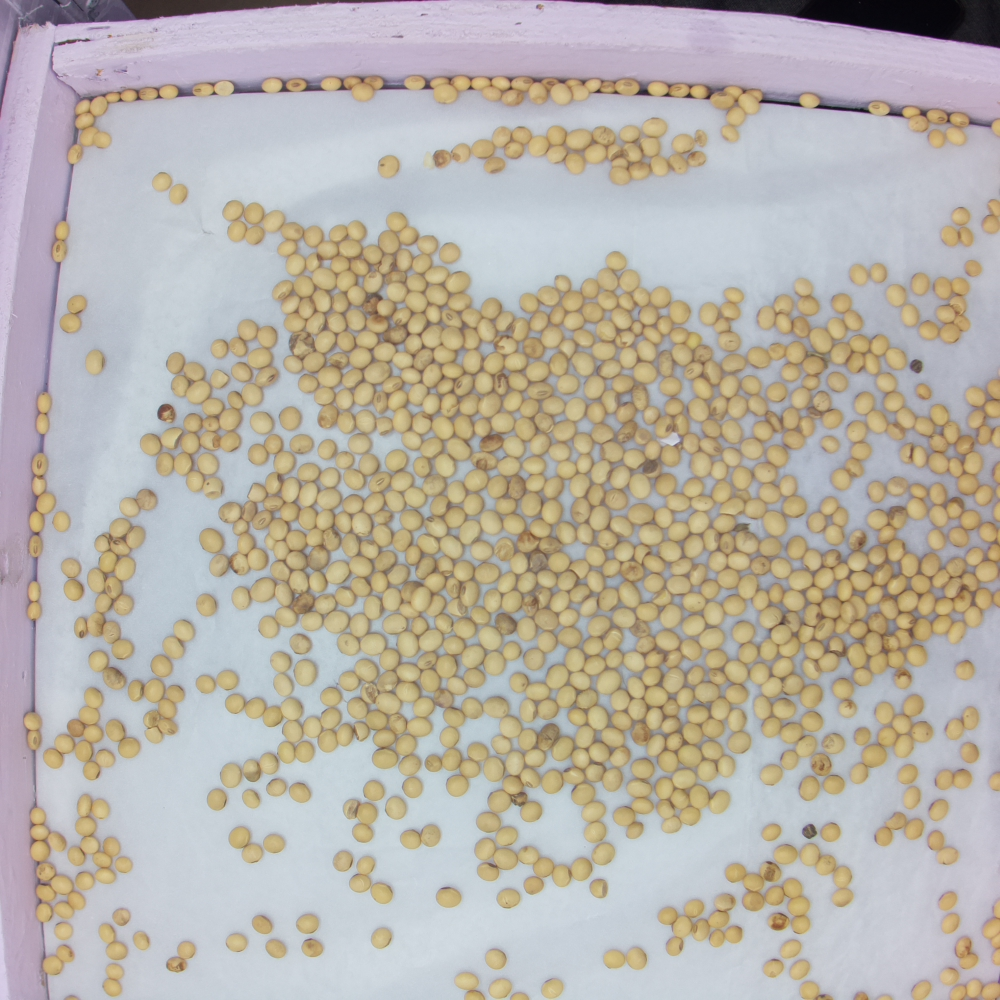soya: (219, 763, 242, 792), (361, 632, 386, 658), (772, 843, 799, 867), (625, 503, 652, 526), (439, 535, 464, 559), (227, 825, 251, 850), (486, 790, 511, 814), (551, 736, 575, 761), (800, 684, 824, 709), (220, 408, 243, 434), (661, 669, 684, 695), (765, 624, 791, 647), (371, 748, 398, 770), (396, 631, 417, 659), (718, 353, 746, 374), (596, 670, 620, 694), (764, 512, 788, 536), (800, 711, 824, 735), (249, 412, 274, 435), (325, 561, 350, 584), (570, 352, 593, 377), (464, 469, 489, 492), (808, 328, 831, 353), (782, 673, 805, 698), (435, 453, 457, 479), (323, 611, 349, 633), (566, 129, 592, 151), (638, 524, 664, 546), (436, 887, 463, 908), (460, 520, 481, 547), (847, 642, 868, 669), (787, 570, 815, 590), (314, 331, 338, 354), (479, 394, 503, 417), (546, 665, 569, 689), (701, 627, 724, 651), (591, 841, 615, 864), (311, 268, 336, 290), (445, 438, 470, 460), (280, 407, 302, 432), (297, 482, 319, 507), (685, 511, 710, 533), (660, 603, 682, 628), (365, 362, 391, 383), (294, 660, 315, 686), (630, 474, 651, 500), (709, 790, 730, 816), (832, 866, 853, 892), (478, 512, 501, 535), (732, 621, 755, 644), (617, 582, 640, 605), (752, 461, 775, 484), (784, 495, 807, 518), (771, 656, 794, 679), (274, 451, 296, 475), (355, 660, 377, 684), (206, 789, 228, 813), (542, 326, 564, 350), (475, 562, 499, 584), (687, 398, 711, 420), (735, 532, 759, 554), (725, 708, 747, 732), (320, 706, 341, 731), (484, 758, 505, 783), (476, 812, 501, 833), (677, 746, 702, 767), (759, 607, 784, 628), (785, 896, 810, 917), (665, 577, 694, 595), (487, 475, 507, 501), (738, 573, 758, 599), (588, 705, 608, 731), (263, 209, 285, 232), (257, 326, 279, 349), (400, 754, 422, 777), (336, 634, 359, 656), (363, 779, 385, 802), (448, 271, 470, 294), (543, 477, 565, 500), (527, 361, 550, 383), (536, 286, 559, 308), (441, 748, 463, 771), (730, 732, 752, 755), (927, 452, 949, 475), (767, 445, 789, 468), (255, 367, 279, 388), (319, 489, 343, 510), (410, 587, 431, 611), (419, 631, 443, 652), (543, 500, 564, 524), (610, 517, 634, 538), (684, 705, 712, 723), (672, 770, 696, 791), (781, 430, 805, 451), (928, 799, 949, 823), (248, 348, 273, 368), (273, 673, 293, 698), (423, 286, 448, 306), (455, 416, 475, 441), (658, 541, 683, 561), (718, 569, 743, 589), (757, 766, 782, 786), (943, 576, 963, 601), (801, 842, 821, 867), (373, 524, 392, 550), (566, 397, 585, 423), (654, 633, 680, 652), (863, 631, 882, 657), (279, 222, 306, 240), (317, 366, 339, 388), (441, 328, 463, 350), (431, 417, 453, 439), (461, 698, 483, 720), (813, 618, 835, 640), (271, 280, 294, 301), (355, 410, 376, 433), (341, 493, 364, 514), (416, 533, 439, 554), (424, 515, 447, 536), (371, 883, 394, 904), (503, 435, 524, 458), (484, 652, 505, 675), (498, 717, 521, 738), (494, 850, 517, 871), (588, 616, 611, 637), (727, 550, 748, 573), (725, 661, 746, 684), (696, 683, 719, 704), (885, 348, 906, 371), (854, 392, 877, 413), (867, 410, 888, 433), (894, 765, 917, 786), (409, 383, 429, 407), (348, 434, 372, 454), (437, 654, 457, 678), (377, 550, 397, 574), (420, 436, 444, 456), (583, 377, 603, 401), (543, 769, 563, 793), (669, 300, 689, 324), (627, 947, 647, 971), (582, 822, 606, 842), (746, 349, 770, 369), (820, 598, 844, 618), (850, 570, 874, 590), (384, 587, 401, 615), (371, 343, 396, 362), (375, 694, 400, 713), (395, 682, 420, 701), (557, 521, 576, 546), (382, 615, 408, 633), (705, 601, 723, 627), (787, 535, 805, 561), (412, 413, 433, 435), (423, 475, 445, 496), (363, 491, 385, 512), (402, 777, 423, 799), (385, 797, 407, 818), (290, 782, 312, 803), (554, 421, 576, 442), (377, 155, 398, 177), (480, 627, 501, 649), (517, 618, 538, 640), (536, 610, 558, 631), (438, 727, 459, 749), (533, 858, 555, 879), (684, 614, 706, 635), (680, 640, 701, 662), (643, 573, 665, 594), (577, 688, 598, 710), (917, 320, 939, 341), (885, 575, 907, 596), (815, 854, 836, 876), (306, 312, 326, 335), (392, 409, 412, 432), (221, 431, 241, 454), (400, 510, 423, 530), (258, 616, 278, 639), (283, 720, 303, 743), (421, 824, 441, 847), (239, 845, 262, 865), (492, 414, 515, 434), (570, 474, 590, 497), (570, 499, 590, 522), (537, 632, 557, 655), (724, 595, 747, 615), (613, 806, 636, 826), (635, 602, 658, 622), (786, 341, 806, 364), (894, 736, 914, 759), (904, 819, 924, 842), (761, 860, 781, 883), (351, 614, 368, 641), (462, 582, 479, 609), (455, 373, 474, 397), (491, 126, 510, 150), (475, 837, 494, 861), (684, 534, 703, 558), (754, 695, 773, 719), (415, 651, 440, 669), (363, 596, 381, 621), (484, 698, 509, 716), (523, 456, 548, 474), (700, 719, 725, 737), (580, 803, 605, 821), (901, 553, 919, 578), (922, 553, 940, 578), (782, 407, 800, 432), (929, 481, 947, 506), (345, 311, 366, 332), (335, 331, 356, 352), (320, 686, 341, 707), (269, 651, 290, 672), (293, 741, 314, 762), (530, 434, 551, 455), (610, 467, 631, 488), (655, 473, 676, 494), (681, 806, 702, 827), (779, 723, 800, 744), (753, 421, 774, 442), (771, 559, 792, 580), (417, 235, 439, 255), (405, 487, 425, 509), (397, 663, 419, 683), (281, 697, 301, 719), (621, 270, 641, 292), (606, 250, 626, 272), (598, 360, 620, 380), (504, 390, 524, 412), (523, 648, 543, 670), (659, 376, 681, 396), (632, 760, 654, 780), (623, 651, 643, 673), (790, 316, 810, 338), (779, 940, 801, 960), (355, 383, 374, 406), (407, 312, 426, 335), (440, 242, 459, 265), (368, 472, 391, 491), (447, 480, 466, 503), (397, 733, 416, 756), (388, 563, 407, 586), (474, 371, 493, 394), (590, 424, 613, 443), (522, 493, 541, 516), (591, 506, 610, 529), (593, 343, 616, 362), (540, 398, 563, 417), (633, 362, 656, 381), (666, 493, 689, 512), (875, 373, 898, 392), (849, 264, 868, 287), (887, 540, 906, 563), (962, 451, 981, 474), (741, 440, 764, 459), (929, 504, 948, 527), (800, 657, 819, 680), (903, 694, 922, 717), (424, 267, 448, 285), (472, 139, 496, 157), (506, 751, 524, 775), (726, 685, 750, 703), (718, 333, 742, 351), (796, 297, 820, 315), (874, 563, 892, 587), (918, 593, 936, 617), (370, 573, 387, 598), (525, 683, 550, 700), (699, 439, 724, 456), (830, 890, 855, 907), (243, 203, 263, 224), (294, 276, 314, 297), (405, 292, 426, 312), (412, 253, 432, 274), (386, 450, 407, 470), (343, 469, 363, 490), (320, 468, 341, 488), (314, 510, 335, 530), (427, 572, 447, 593), (300, 612, 321, 632), (357, 803, 377, 824), (606, 490, 627, 510), (563, 291, 584, 311), (471, 542, 492, 562), (497, 826, 518, 846), (583, 636, 603, 657), (583, 546, 604, 566), (682, 477, 703, 497), (760, 538, 781, 558), (726, 864, 747, 884), (828, 372, 848, 393), (940, 324, 961, 344), (784, 877, 804, 898), (360, 454, 379, 476), (298, 507, 317, 529), (430, 495, 449, 517), (447, 506, 466, 528), (412, 697, 434, 716), (274, 608, 296, 627), (351, 823, 373, 842), (582, 304, 604, 323), (597, 319, 616, 341), (693, 377, 712, 399), (722, 420, 741, 442), (647, 734, 666, 756), (655, 777, 674, 799), (841, 310, 863, 329), (834, 678, 853, 700), (907, 646, 926, 668), (874, 702, 893, 724), (912, 721, 934, 740), (904, 785, 920, 811), (338, 240, 361, 258), (440, 394, 458, 417), (243, 383, 261, 406), (385, 490, 403, 513), (303, 715, 321, 738), (263, 835, 286, 853), (464, 351, 482, 374), (584, 145, 607, 163), (519, 728, 537, 751), (566, 649, 584, 672), (443, 708, 466, 726), (689, 785, 707, 808), (817, 567, 835, 590), (853, 667, 871, 690), (869, 652, 887, 675), (408, 718, 432, 735), (462, 327, 479, 351), (593, 461, 610, 485), (683, 593, 707, 610), (700, 742, 724, 759), (628, 781, 652, 798), (909, 498, 926, 522), (850, 596, 867, 620), (929, 829, 944, 856), (223, 201, 243, 221), (343, 368, 363, 388), (282, 477, 298, 502), (419, 670, 439, 690), (339, 672, 359, 692), (261, 754, 281, 774), (482, 298, 502, 318), (564, 312, 584, 332), (454, 561, 474, 581), (610, 309, 630, 329), (684, 361, 704, 381), (749, 664, 769, 684), (773, 294, 793, 314), (887, 287, 907, 307), (911, 274, 927, 299), (784, 592, 804, 612), (937, 891, 957, 911), (911, 980, 931, 1000), (387, 213, 408, 232), (379, 231, 398, 252), (286, 254, 305, 275), (347, 286, 366, 307), (387, 283, 408, 302), (392, 472, 413, 491), (292, 434, 313, 453), (318, 731, 337, 752), (400, 829, 419, 850), (267, 779, 288, 798), (241, 791, 262, 810), (503, 515, 524, 534), (598, 269, 617, 290), (614, 375, 633, 396), (720, 375, 739, 396), (707, 649, 728, 668), (696, 761, 717, 780), (659, 752, 678, 773), (761, 716, 780, 737), (870, 334, 889, 355), (883, 390, 904, 409), (848, 551, 867, 572), (941, 913, 960, 934), (790, 916, 811, 935), (743, 893, 764, 912), (238, 319, 256, 341), (230, 363, 252, 381), (400, 432, 422, 450), (464, 494, 482, 516), (671, 345, 693, 363), (691, 495, 713, 513), (611, 689, 629, 711), (933, 279, 951, 301), (831, 470, 849, 492), (928, 529, 946, 551), (549, 444, 572, 461), (531, 310, 548, 333), (557, 376, 580, 393), (516, 846, 539, 863), (587, 572, 604, 595), (710, 697, 727, 720), (701, 301, 718, 324), (485, 590, 501, 614), (521, 699, 537, 723), (729, 396, 745, 420), (703, 527, 719, 551), (757, 306, 773, 330), (280, 294, 299, 314), (338, 271, 357, 291), (357, 330, 377, 349), (393, 530, 412, 550), (357, 855, 377, 874), (579, 279, 599, 298), (508, 372, 527, 392), (508, 673, 527, 693), (459, 760, 479, 779), (617, 402, 637, 421), (668, 521, 688, 540), (738, 642, 757, 662), (795, 278, 815, 297), (887, 477, 906, 497), (744, 873, 764, 892), (400, 368, 421, 386), (363, 271, 381, 292), (403, 546, 421, 567), (373, 730, 394, 748), (334, 852, 352, 873), (503, 641, 521, 662), (519, 769, 537, 790), (651, 287, 669, 308), (641, 304, 659, 325), (702, 418, 720, 439), (733, 467, 751, 488), (709, 552, 727, 573), (676, 687, 694, 708), (827, 318, 845, 339), (791, 387, 809, 408), (869, 263, 887, 284), (872, 828, 893, 846), (527, 383, 552, 398), (283, 314, 305, 331), (297, 464, 319, 481), (478, 319, 495, 341), (434, 347, 456, 364), (577, 524, 594, 546), (512, 553, 529, 575), (558, 686, 575, 708), (712, 515, 734, 532), (631, 798, 653, 815), (936, 597, 953, 619), (718, 754, 734, 777), (867, 480, 883, 503), (837, 578, 853, 601), (317, 439, 336, 458), (281, 503, 300, 522), (359, 541, 378, 560), (573, 434, 592, 453), (547, 126, 566, 145), (670, 790, 689, 809), (779, 750, 798, 769), (886, 651, 905, 670), (329, 256, 349, 274), (407, 275, 427, 293), (228, 337, 246, 357), (393, 307, 413, 325), (388, 714, 406, 734), (440, 310, 460, 328), (495, 312, 513, 332), (530, 136, 548, 156), (590, 743, 608, 763), (585, 657, 605, 675), (846, 423, 866, 441), (931, 405, 949, 425), (867, 545, 885, 565), (898, 590, 916, 610), (910, 573, 930, 591), (826, 527, 844, 547), (313, 290, 330, 311), (349, 874, 370, 891), (530, 519, 551, 536), (563, 767, 584, 784), (656, 415, 673, 436), (627, 677, 644, 698), (629, 699, 646, 720), (831, 294, 852, 311), (899, 409, 916, 430), (804, 550, 821, 571), (848, 621, 869, 638), (381, 376, 403, 392), (335, 512, 351, 534), (546, 147, 568, 163), (603, 390, 619, 412), (691, 564, 707, 586), (265, 473, 280, 496), (347, 221, 366, 239), (389, 391, 408, 409), (461, 310, 480, 328), (512, 127, 531, 145), (550, 592, 568, 611), (599, 293, 617, 312), (643, 668, 661, 687), (741, 375, 760, 393), (951, 279, 970, 297), (931, 571, 950, 589), (318, 242, 338, 259), (332, 292, 349, 312), (520, 294, 537, 314), (576, 727, 593, 747), (526, 473, 546, 490), (761, 824, 781, 841), (851, 443, 871, 460), (307, 226, 323, 247), (362, 245, 383, 261), (392, 353, 413, 369), (406, 334, 422, 355), (338, 723, 352, 747), (278, 743, 294, 764), (502, 143, 523, 159), (571, 329, 592, 345), (718, 304, 739, 320), (424, 393, 439, 415), (705, 362, 720, 384), (841, 603, 856, 625), (648, 707, 661, 732), (474, 418, 492, 436), (603, 560, 621, 578), (767, 383, 785, 401), (807, 514, 825, 532), (820, 653, 838, 671), (644, 327, 661, 346), (656, 799, 673, 818), (442, 364, 465, 378), (335, 452, 355, 468), (265, 434, 281, 454), (665, 398, 685, 414), (663, 444, 679, 464), (660, 716, 680, 732), (212, 340, 227, 361), (776, 313, 791, 334), (753, 590, 768, 611), (398, 248, 412, 270), (401, 226, 418, 244), (278, 240, 296, 257), (721, 449, 738, 467), (703, 581, 720, 599), (666, 733, 684, 750), (936, 305, 954, 322), (637, 340, 653, 359), (781, 364, 800, 380), (822, 497, 838, 516), (806, 640, 822, 659), (299, 297, 314, 317), (414, 457, 429, 477), (568, 155, 583, 175), (949, 459, 963, 480), (423, 306, 440, 323), (850, 337, 867, 354), (654, 509, 670, 527), (902, 306, 917, 325), (781, 475, 796, 494), (723, 288, 743, 302), (865, 352, 877, 375), (330, 225, 347, 241), (521, 400, 537, 417), (712, 318, 730, 333), (916, 419, 934, 434), (910, 484, 928, 499), (951, 529, 966, 547), (306, 253, 320, 272), (835, 507, 847, 529), (633, 289, 649, 305), (645, 440, 659, 458), (658, 316, 671, 335), (847, 459, 861, 476), (670, 328, 688, 341)
